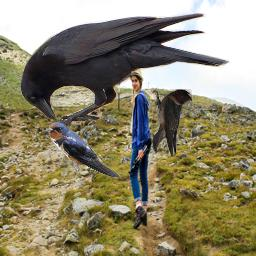Crow: (20, 13, 230, 136)
Swallow: (47, 122, 120, 178), (151, 89, 192, 157)
